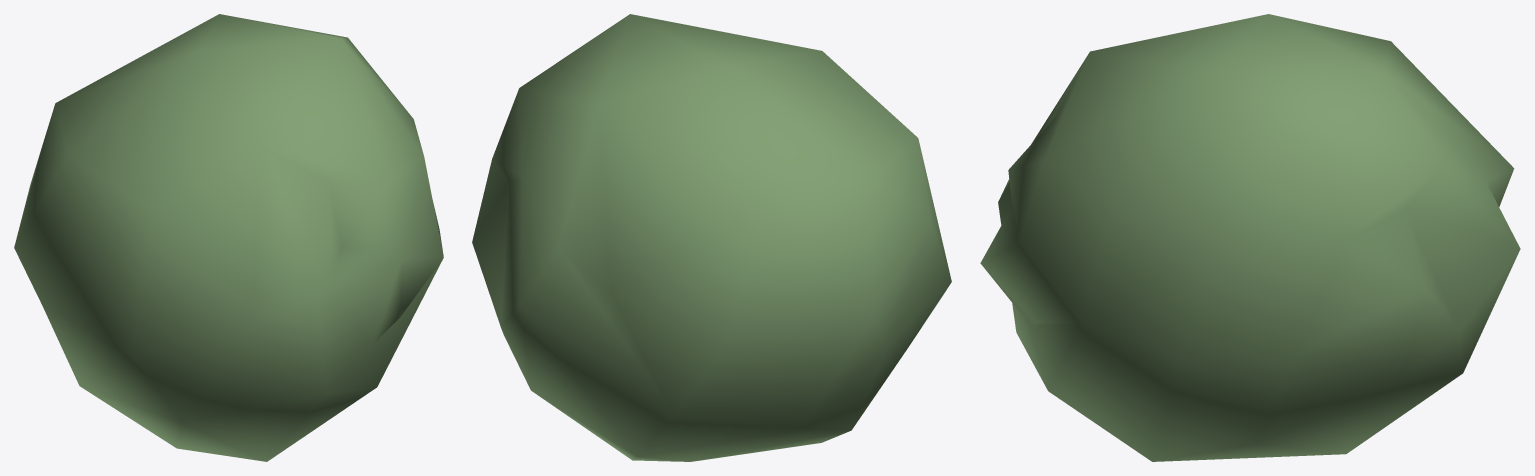
3 views of the same model, side by side, from view 1: azimuth 30°, elevation 25°; view 2: azimuth 150°, elevation 25°; view 3: azimuth 270°, elevation 25° (orthographic). The views are drawn at different scales.
Parts seen in each view (by area): view 1: SM_Cabbage_01_LOD0; view 2: SM_Cabbage_01_LOD0; view 3: SM_Cabbage_01_LOD0.
Part boxes in pixels (left/top/right/bottom): SM_Cabbage_01_LOD0: left=14, top=14, right=443, bottom=461; SM_Cabbage_01_LOD0: left=472, top=14, right=951, bottom=461; SM_Cabbage_01_LOD0: left=980, top=14, right=1520, bottom=461.
Size of the model in its own units: 0.3336 by 0.3213 by 0.3659.
